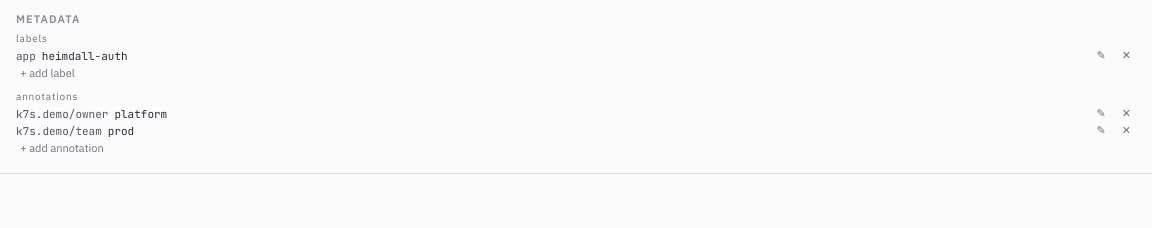
Test: MetadataEditor (B88) › removing a label a Service selects on warns naming the dependent
Click the button named "remove app".
click(1126, 56)  # box left=1117, top=48, right=1136, bottom=63
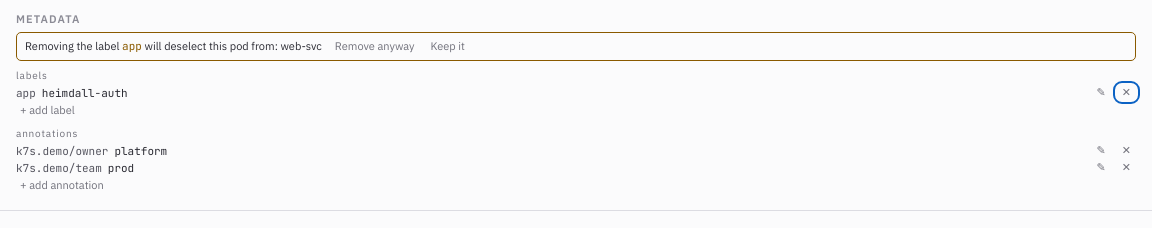
Now the message shows "web-svc", box left=280, top=39, right=322, bottom=53
